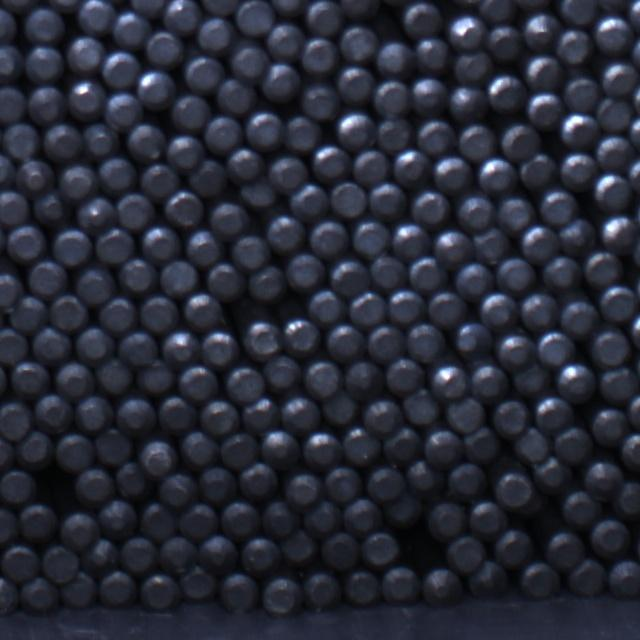tool: (484, 72, 526, 116), (590, 516, 632, 558), (76, 326, 117, 366), (59, 510, 100, 550), (427, 500, 468, 540), (136, 68, 176, 109), (468, 561, 510, 600), (140, 224, 180, 264), (424, 428, 464, 468), (15, 431, 55, 471), (246, 110, 286, 150), (54, 360, 94, 400), (220, 572, 260, 612), (342, 426, 382, 466), (557, 362, 597, 402), (493, 528, 533, 568), (18, 503, 58, 543), (520, 291, 560, 331), (309, 219, 349, 259), (368, 324, 408, 364), (76, 264, 116, 304), (262, 64, 302, 104), (220, 500, 260, 540), (335, 112, 375, 152), (406, 459, 446, 499), (584, 459, 624, 499), (116, 397, 156, 437), (485, 74, 525, 114), (285, 252, 325, 292), (281, 318, 321, 358), (244, 320, 284, 360), (498, 331, 538, 371), (66, 78, 105, 119), (178, 502, 220, 540), (596, 12, 634, 54), (406, 322, 446, 361), (546, 529, 586, 568), (267, 214, 306, 254), (468, 500, 508, 539), (532, 456, 572, 495), (116, 462, 156, 501), (363, 397, 404, 435), (518, 561, 560, 598), (56, 432, 95, 471), (304, 359, 343, 398), (27, 85, 66, 124), (409, 76, 448, 115), (322, 531, 362, 569), (0, 544, 40, 582), (200, 399, 240, 437), (34, 394, 72, 434), (179, 364, 219, 402), (220, 432, 260, 470), (140, 294, 180, 332), (163, 190, 203, 228), (198, 464, 238, 502), (76, 466, 116, 504), (267, 154, 307, 192), (185, 54, 225, 92), (10, 296, 50, 334), (263, 575, 303, 613), (344, 359, 384, 397), (494, 256, 534, 294), (328, 324, 368, 362), (502, 122, 542, 160), (159, 396, 199, 434), (380, 565, 420, 603), (429, 290, 469, 328), (566, 558, 606, 596), (534, 397, 574, 435), (30, 260, 70, 298), (382, 426, 422, 464), (18, 578, 58, 616), (394, 220, 434, 258), (238, 461, 278, 499), (78, 195, 118, 233), (331, 258, 371, 296), (98, 499, 136, 539), (304, 429, 344, 467), (138, 358, 178, 396), (290, 182, 330, 220), (308, 288, 348, 326), (262, 500, 302, 538), (140, 572, 180, 610), (139, 438, 179, 476), (126, 124, 166, 162), (369, 182, 409, 220), (280, 394, 320, 432), (14, 160, 54, 198), (590, 328, 630, 366), (199, 536, 239, 574), (432, 153, 472, 191), (422, 568, 462, 606), (80, 536, 120, 574), (412, 190, 452, 228), (476, 156, 516, 194), (600, 212, 640, 250), (432, 226, 472, 264), (453, 321, 493, 359), (401, 0, 442, 37), (262, 428, 301, 466), (117, 192, 156, 230), (53, 228, 92, 266), (7, 224, 46, 262), (343, 496, 382, 534), (519, 226, 558, 264), (203, 114, 242, 152), (32, 328, 71, 366), (207, 262, 246, 300), (314, 142, 353, 180), (241, 537, 280, 575), (352, 219, 390, 258), (339, 23, 378, 61), (201, 329, 239, 368), (558, 151, 596, 190), (304, 500, 343, 538), (102, 49, 140, 88), (472, 363, 510, 402), (181, 431, 220, 469), (95, 356, 134, 394), (45, 122, 84, 160), (496, 195, 534, 234), (209, 200, 248, 238), (303, 569, 342, 607), (66, 35, 104, 74), (94, 227, 134, 264), (140, 163, 180, 200), (76, 394, 116, 431), (10, 360, 50, 397), (561, 490, 601, 527), (281, 472, 321, 509), (446, 12, 486, 49), (34, 190, 74, 227), (160, 260, 198, 298), (446, 534, 484, 572), (462, 426, 500, 464), (94, 428, 132, 466), (348, 290, 386, 328), (140, 502, 178, 540), (458, 124, 496, 162), (113, 8, 151, 46), (493, 398, 531, 436), (120, 535, 158, 573), (325, 466, 363, 504), (480, 292, 518, 330), (386, 356, 424, 394), (165, 133, 203, 171), (189, 158, 227, 196), (98, 296, 136, 334), (496, 470, 534, 508), (106, 90, 144, 128), (592, 408, 630, 446), (456, 262, 494, 300), (159, 534, 197, 572), (526, 88, 564, 126), (248, 264, 286, 302), (460, 194, 498, 232), (404, 388, 442, 426), (560, 300, 598, 338), (59, 162, 97, 200), (98, 156, 136, 194), (337, 66, 375, 104), (241, 396, 279, 434), (230, 44, 268, 82), (372, 80, 410, 118), (185, 291, 224, 328), (98, 569, 137, 606), (146, 31, 185, 68), (583, 250, 622, 287), (120, 331, 160, 367), (600, 366, 640, 402), (24, 6, 64, 42), (447, 461, 487, 497), (429, 362, 469, 398), (542, 256, 582, 292), (172, 93, 212, 129), (383, 492, 423, 528), (512, 361, 552, 397), (41, 544, 78, 582), (51, 294, 88, 332), (395, 147, 433, 184), (227, 366, 264, 404), (558, 218, 596, 255), (540, 188, 578, 225), (518, 152, 556, 189), (216, 79, 255, 115), (25, 46, 64, 82), (158, 472, 197, 508), (59, 572, 98, 608), (234, 1, 274, 36), (446, 397, 486, 432), (331, 180, 368, 217), (188, 227, 225, 264), (302, 82, 339, 119), (554, 426, 592, 462), (120, 258, 158, 294), (600, 284, 638, 320), (368, 466, 406, 502), (264, 354, 302, 390), (352, 150, 390, 186), (232, 234, 270, 270), (410, 257, 448, 293), (390, 287, 428, 323), (227, 148, 265, 184), (417, 118, 455, 154), (283, 114, 321, 150), (280, 532, 318, 568), (198, 16, 234, 54), (300, 36, 338, 72), (526, 52, 564, 88), (451, 80, 489, 116), (178, 567, 218, 601), (3, 124, 40, 160), (342, 568, 379, 604), (539, 331, 576, 367), (321, 388, 358, 424), (362, 530, 400, 565), (514, 428, 552, 463), (368, 256, 406, 291), (165, 331, 203, 366), (0, 470, 36, 506), (474, 226, 510, 262), (82, 123, 118, 159), (268, 20, 304, 56), (414, 38, 450, 74), (79, 0, 117, 34), (163, 0, 201, 34), (374, 41, 412, 75), (0, 400, 32, 440), (555, 27, 591, 62), (304, 0, 342, 33), (608, 558, 640, 597), (378, 118, 413, 153), (602, 61, 638, 95), (482, 26, 518, 60), (522, 11, 556, 46), (454, 50, 490, 82), (570, 74, 598, 114), (596, 174, 624, 214), (478, 0, 518, 28), (594, 138, 628, 170), (0, 191, 30, 226), (0, 329, 28, 365), (0, 85, 26, 122), (566, 116, 596, 148), (556, 0, 596, 23), (616, 479, 640, 517), (0, 44, 22, 84), (0, 272, 24, 308), (598, 96, 626, 126), (621, 432, 640, 470), (0, 576, 18, 616), (0, 506, 18, 546), (0, 6, 18, 44), (340, 0, 380, 16), (0, 152, 16, 192), (130, 0, 168, 16), (200, 0, 241, 14), (270, 0, 308, 15), (627, 110, 640, 153), (1, 434, 14, 474), (46, 0, 88, 12), (628, 393, 640, 431), (0, 0, 41, 11), (630, 309, 640, 347), (627, 160, 640, 188), (632, 33, 640, 71), (0, 359, 6, 398)
void: (32, 466, 76, 510)
